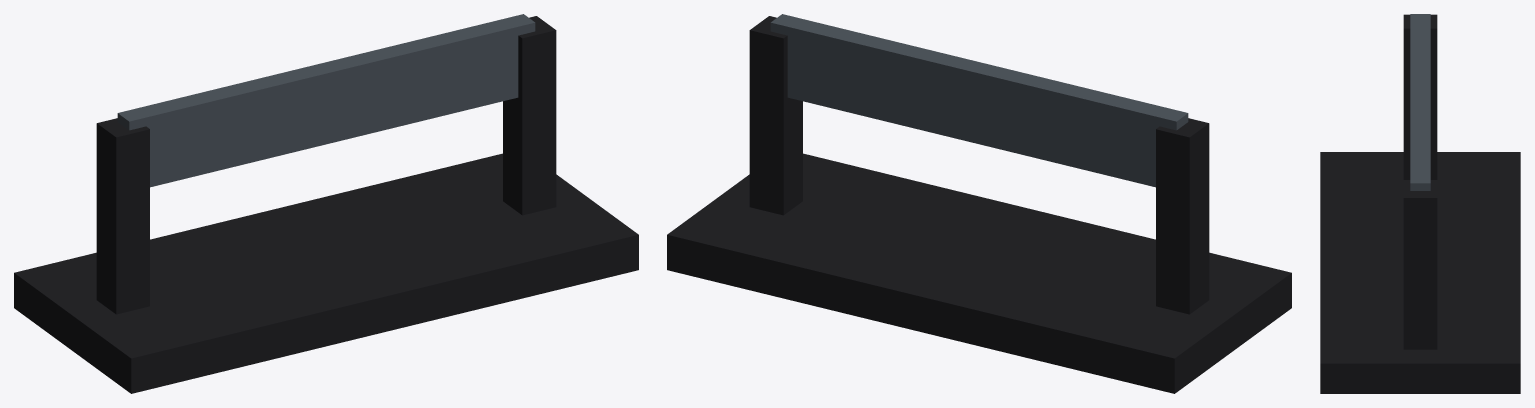
Rendered from GT_BootScraper_01.glb.
3 renders of one model, left to right at view 1: azimuth 30°, elevation 25°; view 2: azimuth 150°, elevation 25°; view 3: azimuth 270°, elevation 25°, orthographic. The views are drawn at different scales.
Parts seen in each view (by area): view 1: GT_BootScraper_01; view 2: GT_BootScraper_01; view 3: GT_BootScraper_01.
Boxes of the visible parts, x1,y1,x2,y2 form: GT_BootScraper_01: [14, 14, 638, 393]; GT_BootScraper_01: [667, 14, 1291, 393]; GT_BootScraper_01: [1320, 14, 1520, 393].
Bounding box in the file's own units: 0.3 × 0.125 × 0.12.
1 material, 1 textured.
